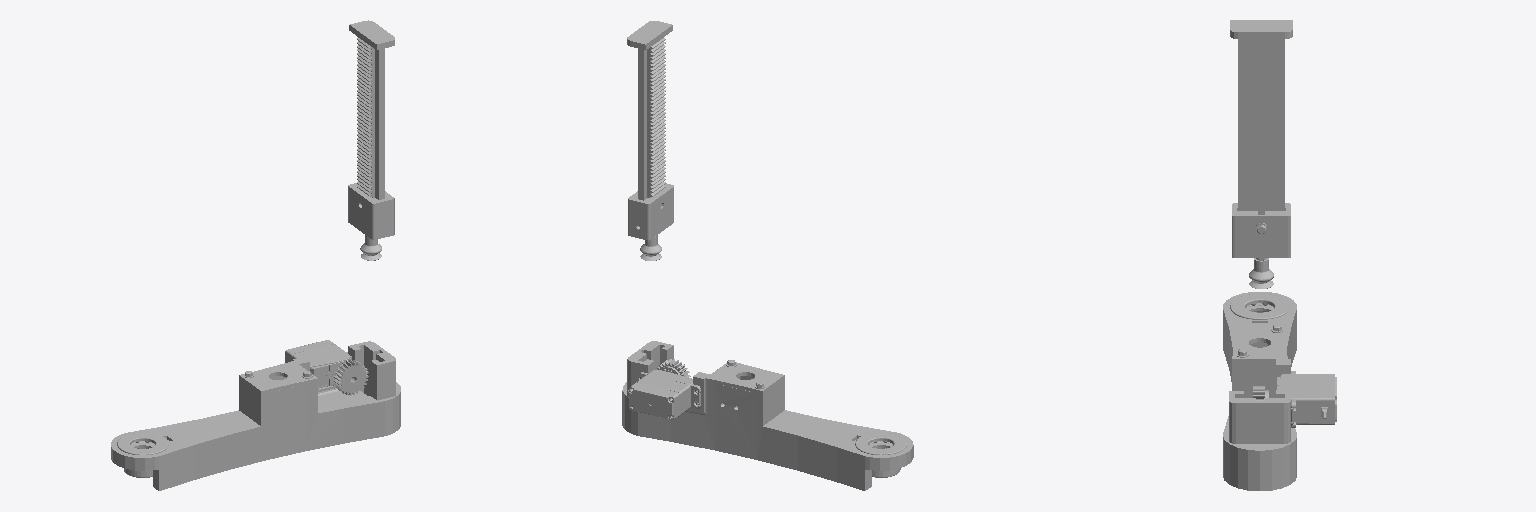
URDF robot description (ensamblaje):
<?xml version="1.0" encoding="utf-8"?>
<robot name="ensamblaje">
  
  <link name="base_link">
    <inertial>
      <origin xyz="-0.099514 0.0017046 0.043359" rpy="0 0 0" />
      <mass value="1.395" />
      <inertia ixx="0.0019998" ixy="-5.6235E-07" ixz="-0.00017151" iyy="0.004182" iyz="-8.2856E-07" izz="0.0049989" />
    </inertial>
    <visual>
      <origin xyz="0 0 0" rpy="0 0 0" />
      <geometry>
        <mesh filename="package://mi_pkg_python/urdf/meshes/base_link.STL"/>
      </geometry>
      <material name=""><color rgba="0.75294 0.75294 0.75294 1" /></material>
    </visual>
    <collision>
      <origin xyz="0 0 0" rpy="0 0 0" /><geometry><mesh filename="package://mi_pkg_python/urdf/meshes/base_link.STL"/></geometry>
    </collision>
  </link>
  
  <link name="brazo_link">
    <inertial>
      <origin xyz="0.075309 -1.0471E-05 0.17304" rpy="0 0 0" />
      <mass value="0.46473" />
      <inertia ixx="0.00018478" ixy="2.9848E-09" ixz="-8.9803E-07" iyy="0.0015038" iyz="-1.2762E-08" izz="0.0014571" />
    </inertial>
    <visual>
      <origin xyz="0 0 0" rpy="0 0 0" /><geometry><mesh filename="package://mi_pkg_python/urdf/meshes/brazo_link.STL"/></geometry>
      <material name=""><color rgba="0.75294 0.75294 0.75294 1" /></material>
    </visual>
    <collision>
      <origin xyz="0 0 0" rpy="0 0 0" /><geometry><mesh filename="package://mi_pkg_python/urdf/meshes/brazo_link.STL"/></geometry>
    </collision>
  </link>

  <joint name="brazo_joint" type="continuous">
    <origin xyz="0 0 0" rpy="0 0 0" />
    <parent link="base_link" />
    <child link="brazo_link" />
    <axis xyz="0 0 1" />
    <limit effort="5.0" velocity="1.570" />
  </joint>

  <link name="antebrazo_link">
    <inertial>
      <origin xyz="0.12022 0.002532 0.013813" rpy="0 0 0" />
      <mass value="0.33783" />
      <inertia ixx="9.4347E-05" ixy="-3.4378E-06" ixz="-4.6981E-05" iyy="0.0013614" iyz="-1.7572E-06" izz="0.0013587" />
    </inertial>
    <visual>
      <origin xyz="0 0 0" rpy="0 0 0" /><geometry><mesh filename="package://mi_pkg_python/urdf/meshes/antebrazo_link.STL"/></geometry>
      <material name=""><color rgba="0.75294 0.75294 0.75294 1" /></material>
    </visual>
    <collision>
      <origin xyz="0 0 0" rpy="0 0 0" /><geometry><mesh filename="package://mi_pkg_python/urdf/meshes/antebrazo_link.STL"/></geometry>
    </collision>
  </link>

  <joint name="antebrazo_joint" type="continuous">
    <origin xyz="0.20188 -0.00036684 0.15187" rpy="0 0 0" />
    <parent link="brazo_link" />
    <child link="antebrazo_link" />
    <axis xyz="0 0 1" />
    <limit effort="5" velocity="1.570" />
  </joint>

  <link name="efector_link">
    <inertial>
      <origin xyz="-0.00019941 3.011E-05 -0.092013" rpy="0 0 0" />
      <mass value="0.064572" />
      <inertia ixx="9.9025E-05" ixy="1.0267E-11" ixz="4.8235E-07" iyy="9.4422E-05" iyz="-1.0234E-08" izz="7.2977E-06" />
    </inertial>
    <visual>
      <origin xyz="0 0 0" rpy="0 0 0" /><geometry><mesh filename="package://mi_pkg_python/urdf/meshes/efector_link.STL"/></geometry>
      <material name=""><color rgba="0.75294 0.75294 0.75294 1" /></material>
    </visual>
    <collision>
      <origin xyz="0 0 0" rpy="0 0 0" /><geometry><mesh filename="package://mi_pkg_python/urdf/meshes/efector_link.STL"/></geometry>
    </collision>
  </link>

  <joint name="efector_joint" type="prismatic">
    <origin xyz="0.20445 0.001 +0.13418" rpy="3.1416 0 0" />
    <parent link="antebrazo_link" />
    <child link="efector_link" />
    <axis xyz="0 0 1" />
    <limit lower="-100.0" upper="100.0" effort="100" velocity="1.0" />
  </joint>

</robot>

--- Facts derived from the render (not from the file) ---
The picture shows the robot from 3 angles, left to right: view 1: azimuth 30°, elevation 25°; view 2: azimuth 150°, elevation 25°; view 3: azimuth 270°, elevation 25°; orthographic projection.
Model ensamblaje with 4 links and 3 joints (2 continuous, 1 prismatic), rooted at base_link, posed every joint at zero.
Links seen in each view (by area): view 1: antebrazo_link, efector_link; view 2: antebrazo_link, efector_link; view 3: antebrazo_link, efector_link.
Link boxes in pixels (x1=…): antebrazo_link: x1=111, y1=340, x2=400, y2=490; efector_link: x1=348, y1=20, x2=394, y2=260; antebrazo_link: x1=622, y1=341, x2=913, y2=490; efector_link: x1=627, y1=21, x2=673, y2=260; antebrazo_link: x1=1223, y1=292, x2=1336, y2=490; efector_link: x1=1230, y1=20, x2=1292, y2=288.
Size in the robot's own frame: 0.2516 by 0.0767 by 0.3334 metres.
Meshes: 4 distinct files referenced, 2 mesh visuals loaded (2 binary STL); not drawn: 2 (reference not matched to a file when rendering).